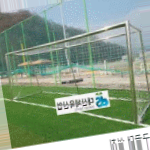goals: (4, 20, 150, 126)
